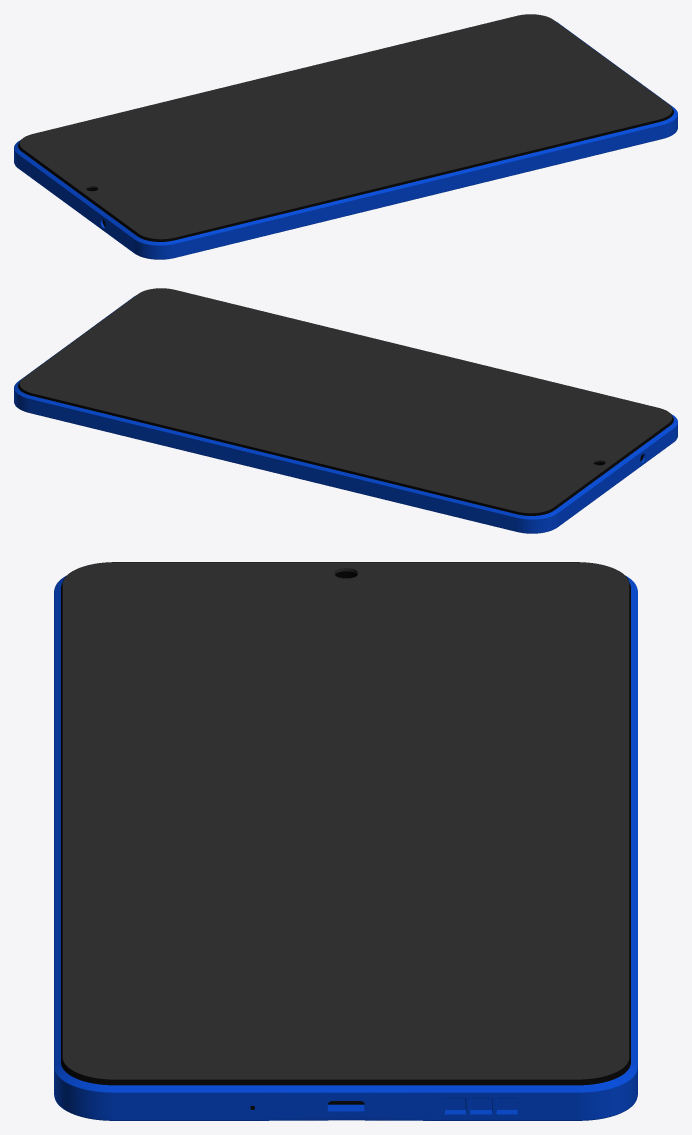
The model's file is mobile.fbx.
3 renders of one model, top to bottom at view 1: azimuth 30°, elevation 25°; view 2: azimuth 150°, elevation 25°; view 3: azimuth 270°, elevation 25°, orthographic. The views are drawn at different scales.
Visible parts, largest first — view 1: mobile; view 2: mobile; view 3: mobile.
Part boxes in pixels (<box>): mobile: <box>14,14,677,259</box>; mobile: <box>14,288,677,533</box>; mobile: <box>54,562,637,1120</box>.
Size of the model in its own units: 16.48 by 0.635 by 7.72.
